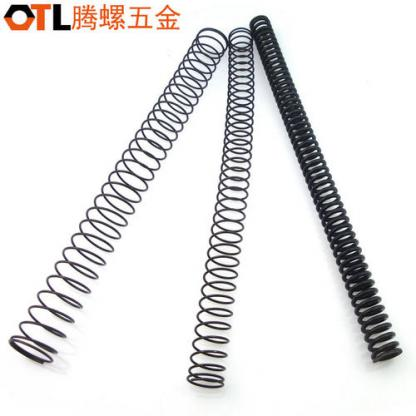FOD: (6, 24, 228, 368), (249, 13, 404, 364), (183, 27, 255, 391)
